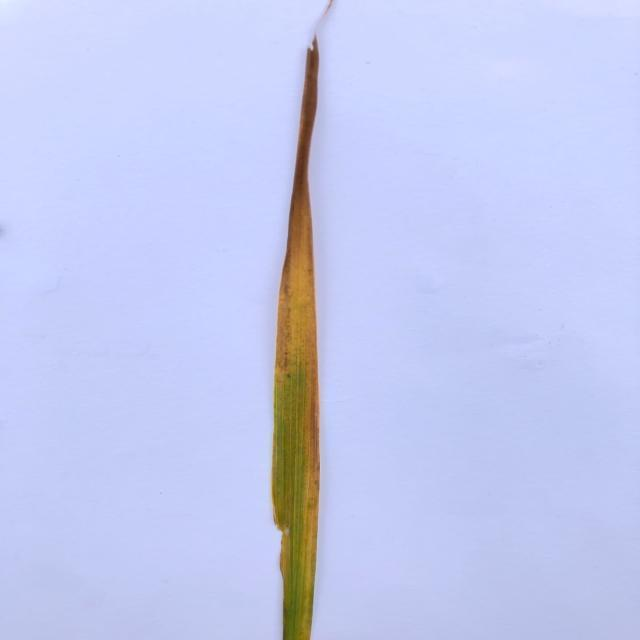Rice Tungro: (274, 42, 319, 354)
